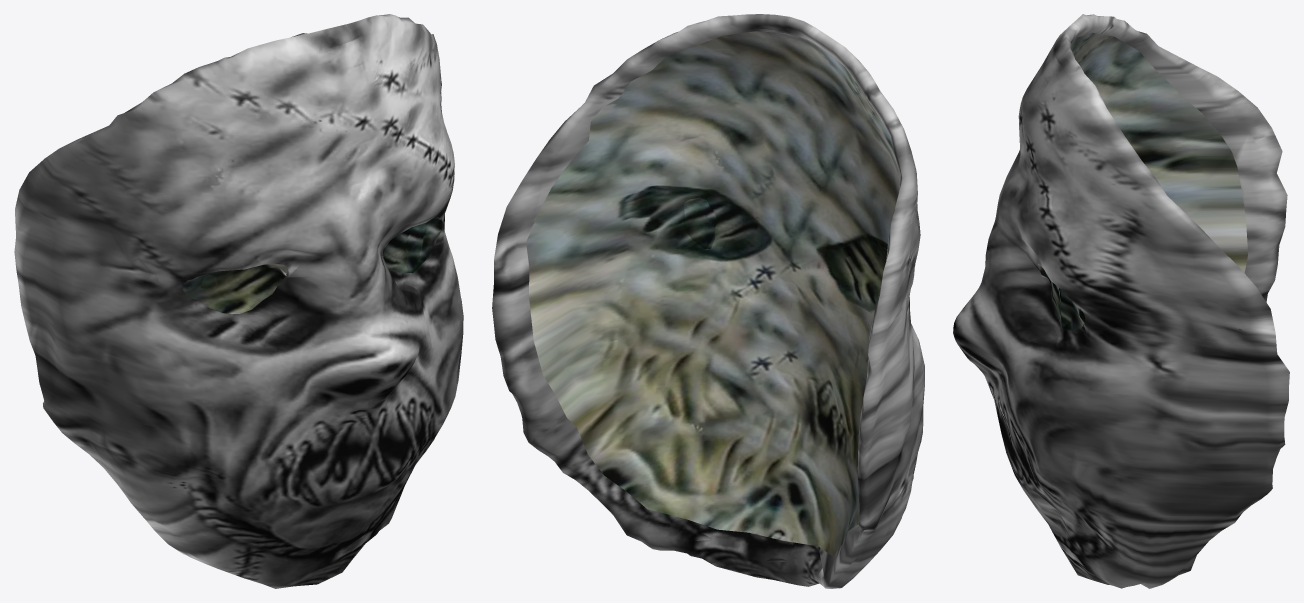
File: mask-transformed.glb
The picture shows the model from 3 angles, left to right: view 1: azimuth 30°, elevation 25°; view 2: azimuth 150°, elevation 25°; view 3: azimuth 270°, elevation 25°; orthographic projection. The views are drawn at different scales.
Visible parts, largest first — view 1: horror_mask; view 2: horror_mask; view 3: horror_mask.
Part boxes in pixels (bbox=[...]): horror_mask: bbox=[14, 14, 463, 588]; horror_mask: bbox=[492, 14, 924, 588]; horror_mask: bbox=[953, 14, 1289, 588].
Bounding box in the file's own units: 0.1728 × 0.2331 × 0.1334.
Materials: 2 (2 with a texture image).
